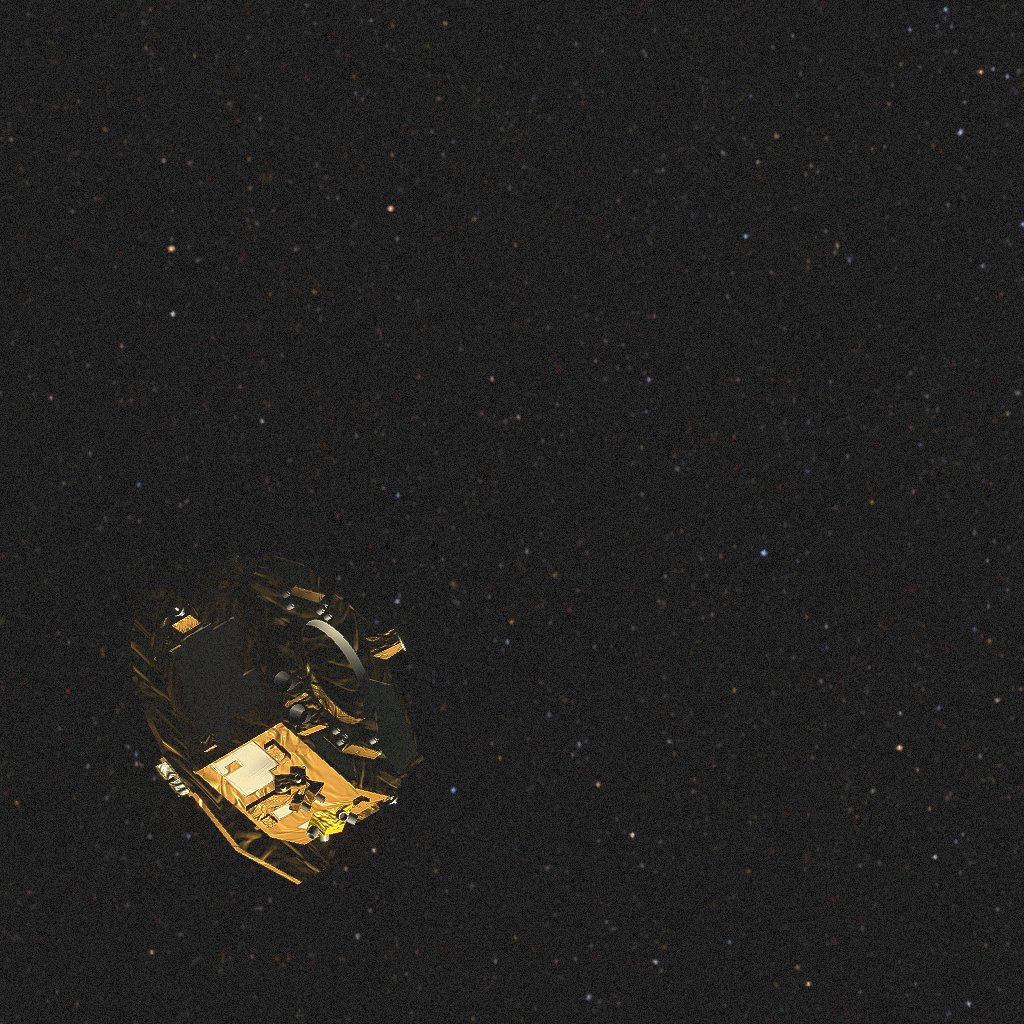lisa_pathfinder: (126, 552, 423, 884)
